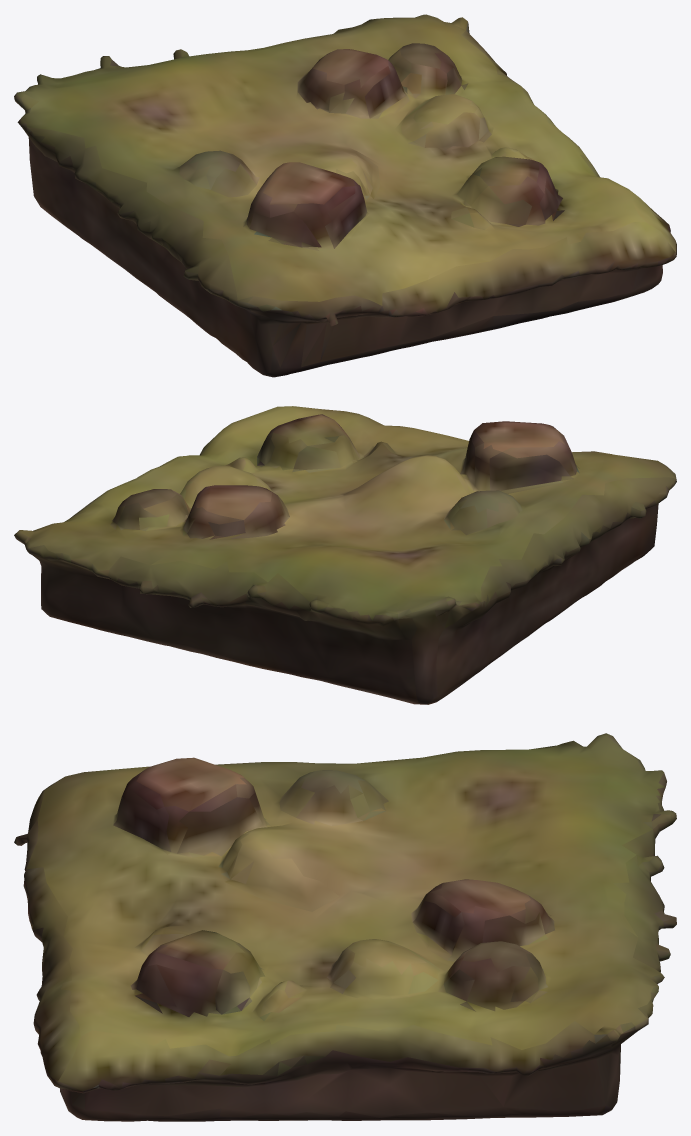
File: m10_capim_pedras.glb
The picture shows the model from 3 angles, top to bottom: view 1: azimuth 30°, elevation 25°; view 2: azimuth 150°, elevation 25°; view 3: azimuth 270°, elevation 25°; orthographic projection. The views are drawn at different scales.
Parts seen in each view (by area): view 1: m10_capim_pedras; view 2: m10_capim_pedras; view 3: m10_capim_pedras.
Boxes of the visible parts, left/top/right/bottom form: m10_capim_pedras: left=14, top=14, right=676, bottom=377; m10_capim_pedras: left=14, top=406, right=676, bottom=704; m10_capim_pedras: left=14, top=733, right=676, bottom=1121.
Bounding box in the file's own units: 1.07 × 0.3233 × 1.11.
Materials: 1 (1 with a texture image).
